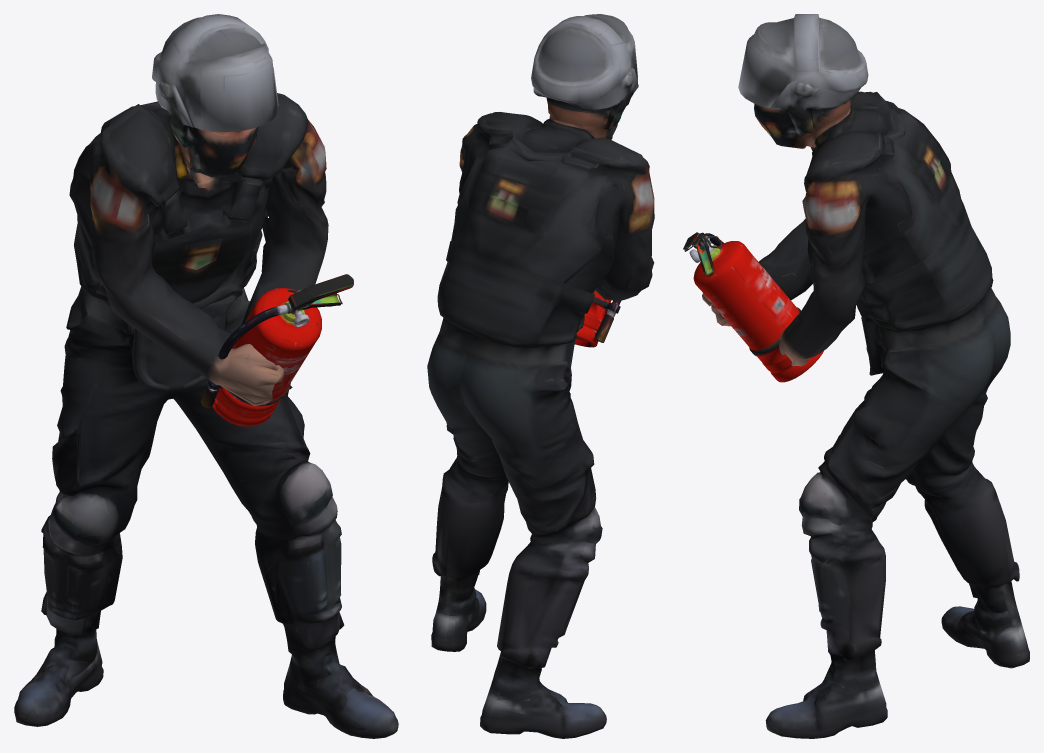
Rendered from brimob_apar_idle.glb.
3 views of the same model, side by side, from view 1: azimuth 30°, elevation 25°; view 2: azimuth 150°, elevation 25°; view 3: azimuth 270°, elevation 25° (orthographic). The views are drawn at different scales.
Visible parts, largest first — view 1: tripo_node_60fe8cd5; view 2: tripo_node_60fe8cd5; view 3: tripo_node_60fe8cd5.
Part boxes in pixels (left/top/right/bottom): tripo_node_60fe8cd5: left=14, top=14, right=398, bottom=738; tripo_node_60fe8cd5: left=427, top=14, right=654, bottom=738; tripo_node_60fe8cd5: left=683, top=14, right=1029, bottom=738.
Bounding box in the file's own units: 37.19 × 94.45 × 45.51.
Materials: 2 (2 with a texture image).
